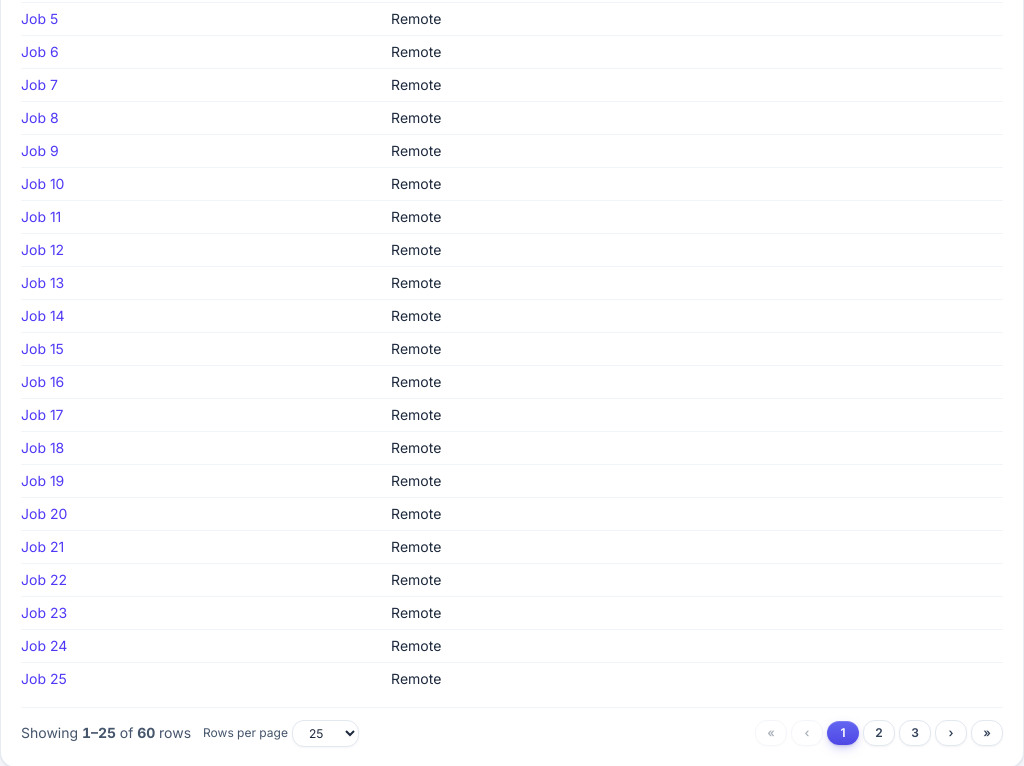
Test case: ReportsPage › pages long tables (25 rows a page) and the filter starts again on page 1
(page scrolled)
Expected: the link "Job 26" is not shown
Click the button named "next" at (951, 733), box [935,720,967,746]
(page scrolled)
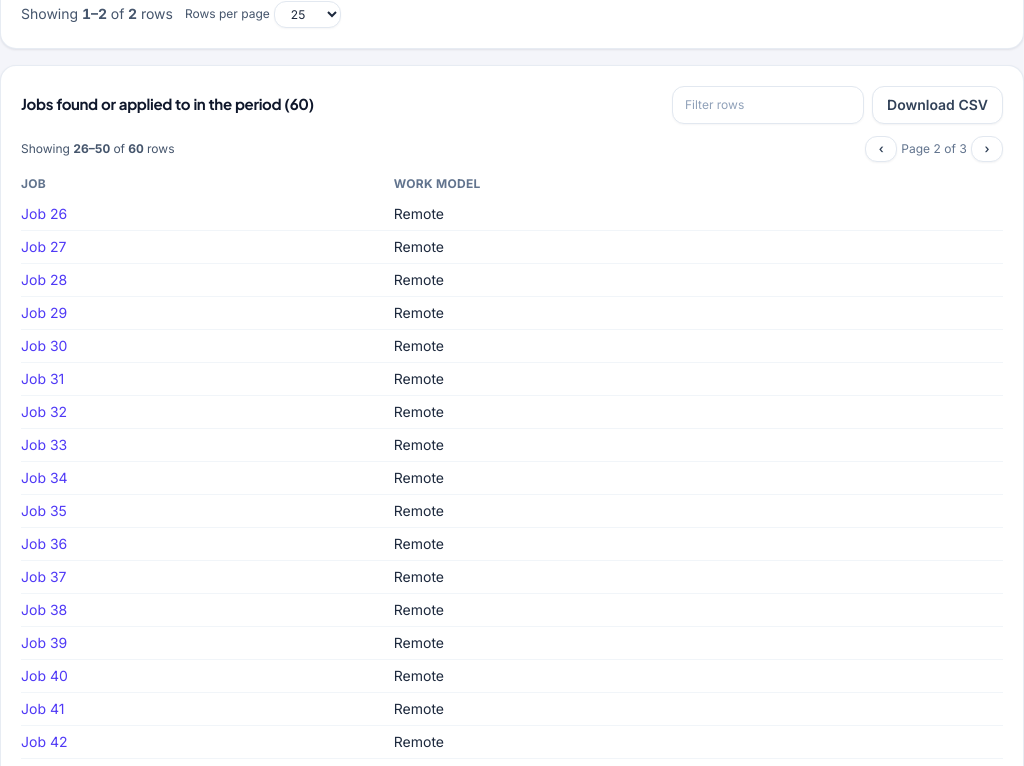
Now the link "Job 26" is shown, box [21,204,67,222]
Now the link "Job 1" is gone
Type "Job 7" into the field named "Filter rows: Jobs found" at (768, 104), box [672,86,864,124]
(page scrolled)
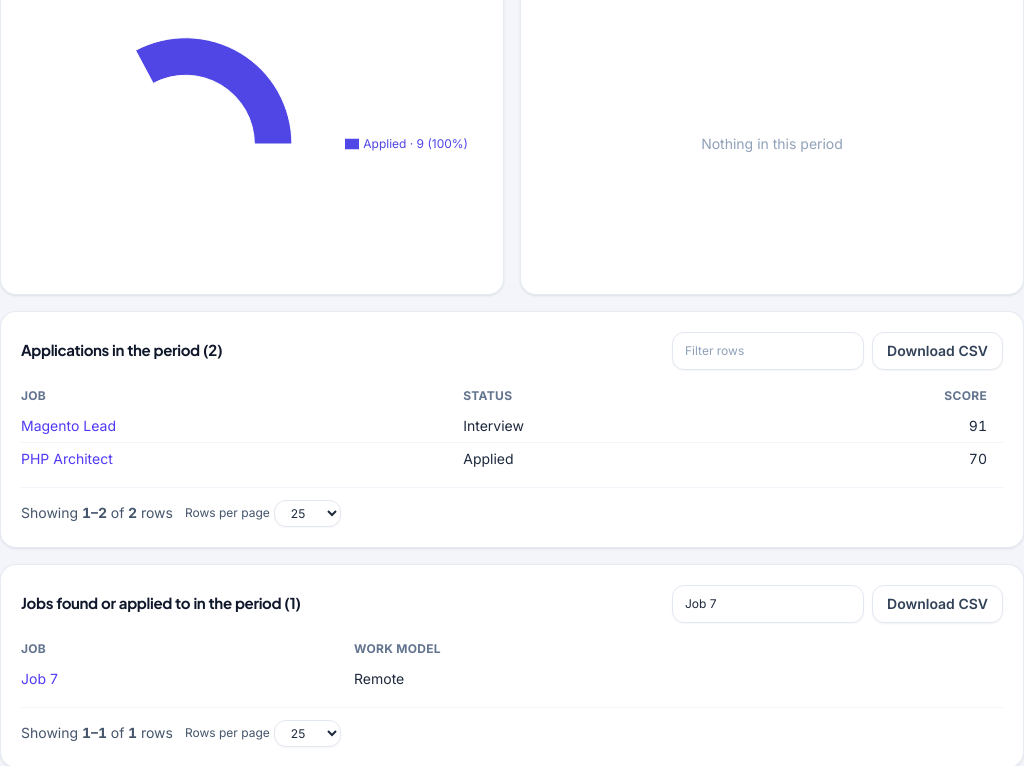
Now the link "Job 7" is shown, box [21,670,58,686]
